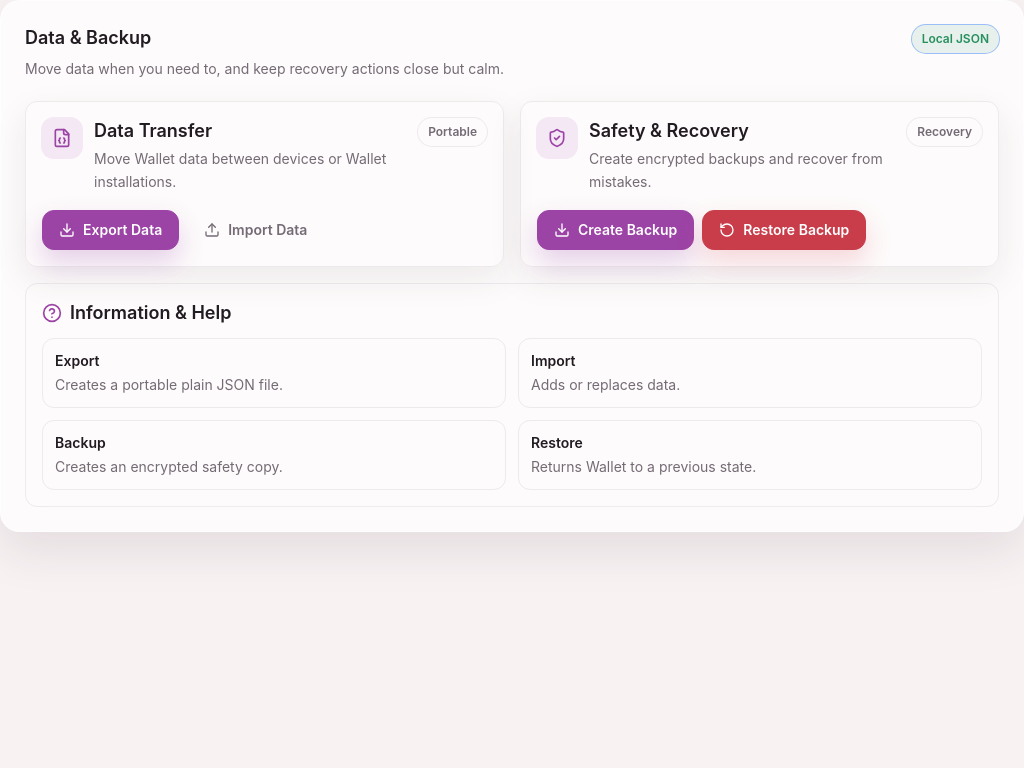
Scenario: plain export warns before writing portable JSON
This screenshot has width=1024, height=768.
Click the button "Export Data". click: (111, 230)
box: x1=42 y1=210 x2=179 y2=250
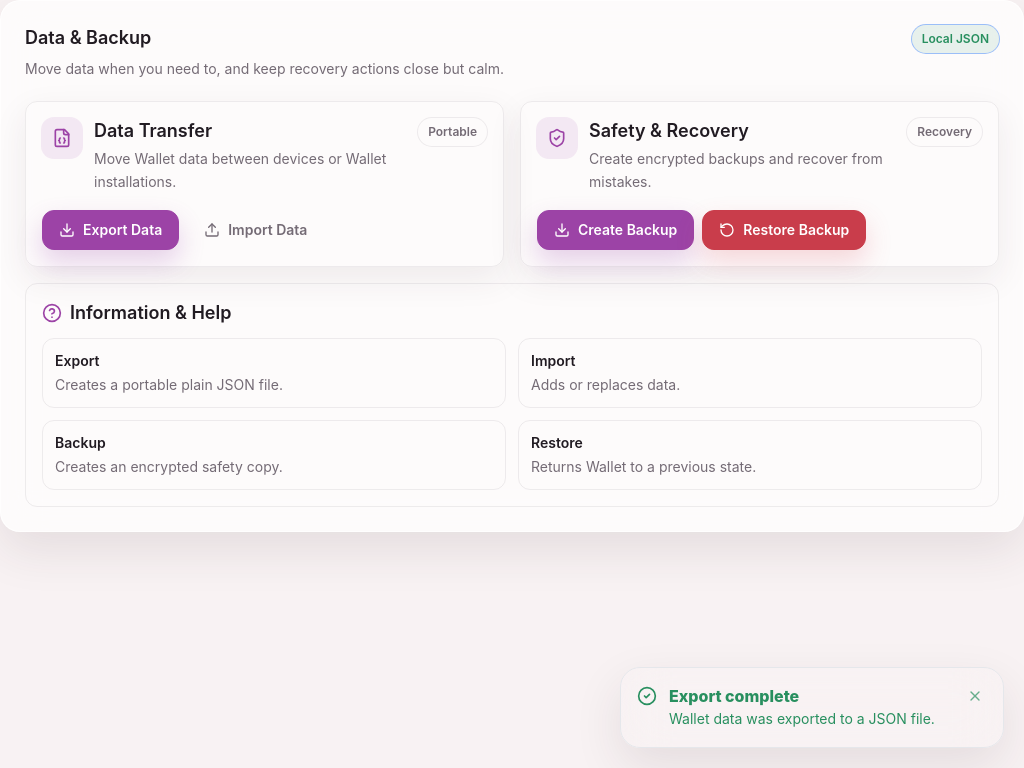
Expected: the text "Export complete" is shown, x1=669 y1=686 x2=799 y2=706
